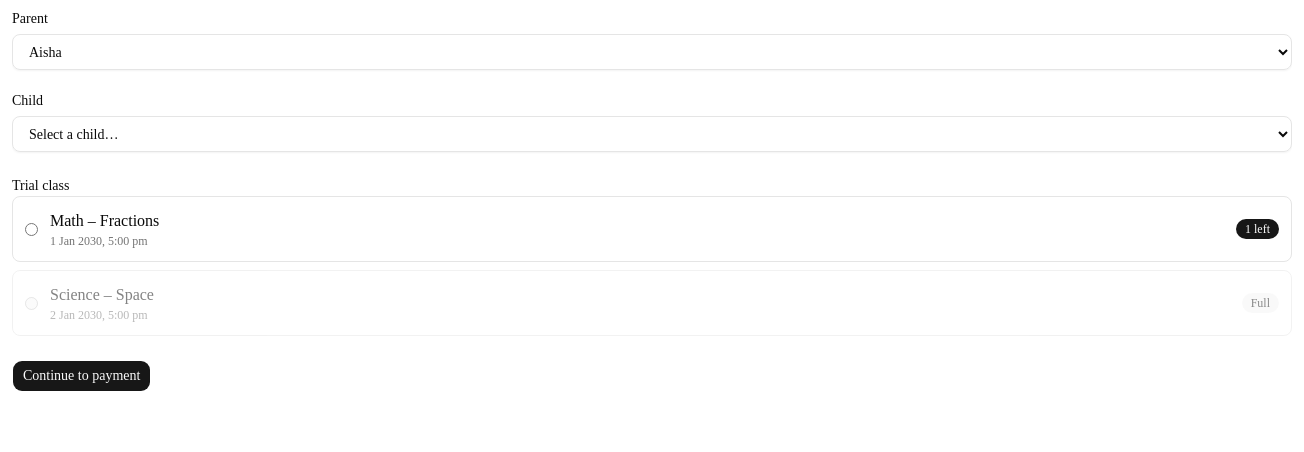
BookingForm › shows the API 409 message inline with a link to the existing booking
Select "Zara" in the dropdown labelled "Child" at (652, 134), box [12,116,1292,152]
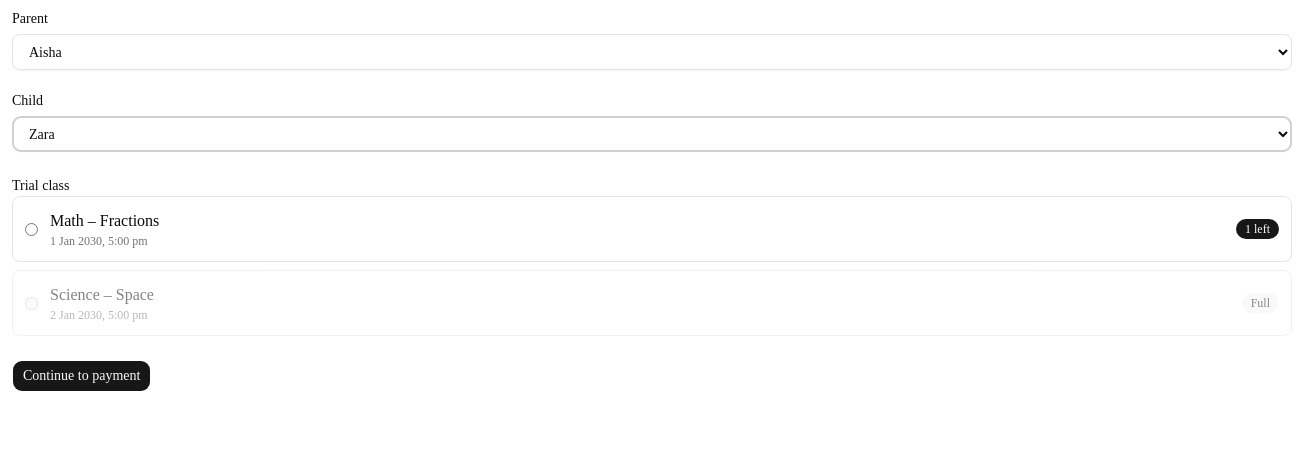
Click the radio button labelled "Math – Fractions 1 Jan 2030, 5:00 pm 1 left".
click(32, 229)  # box [25,222,38,236]
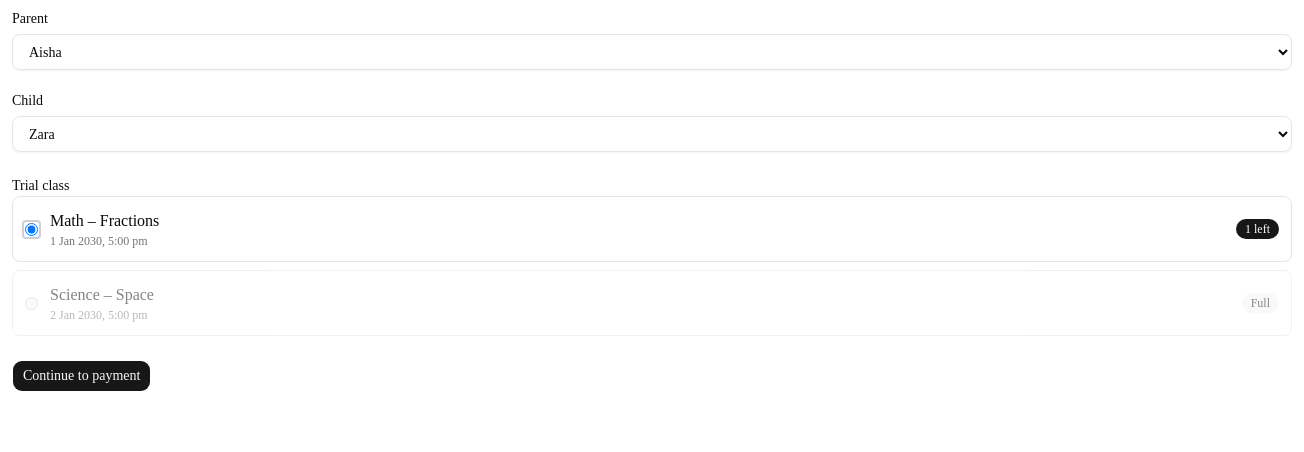
Click the button "Continue to payment".
click(82, 376)  # box [12,360,151,392]
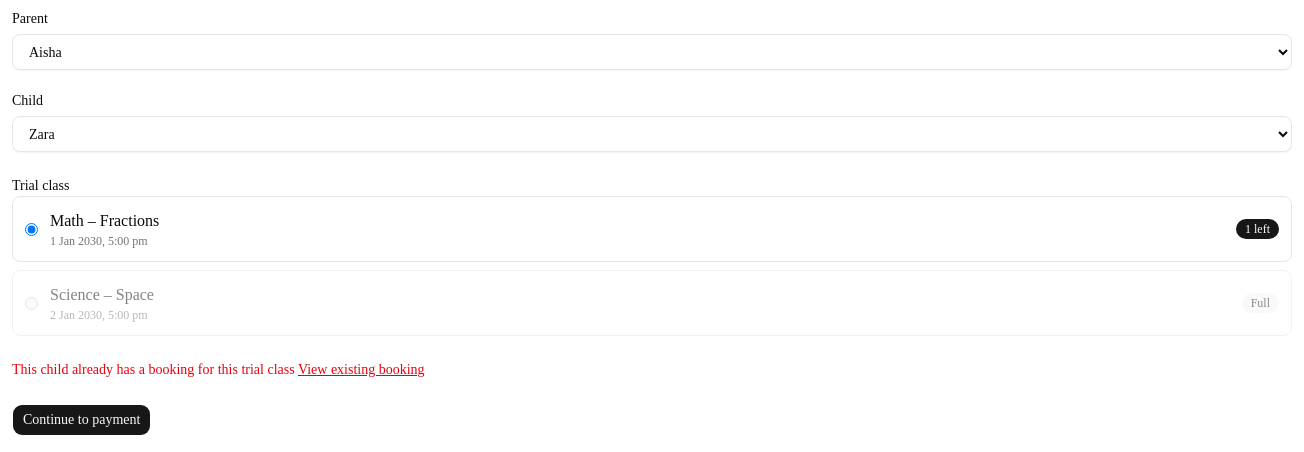
Now the message shows "already has a booking", box [12,362,295,377]
